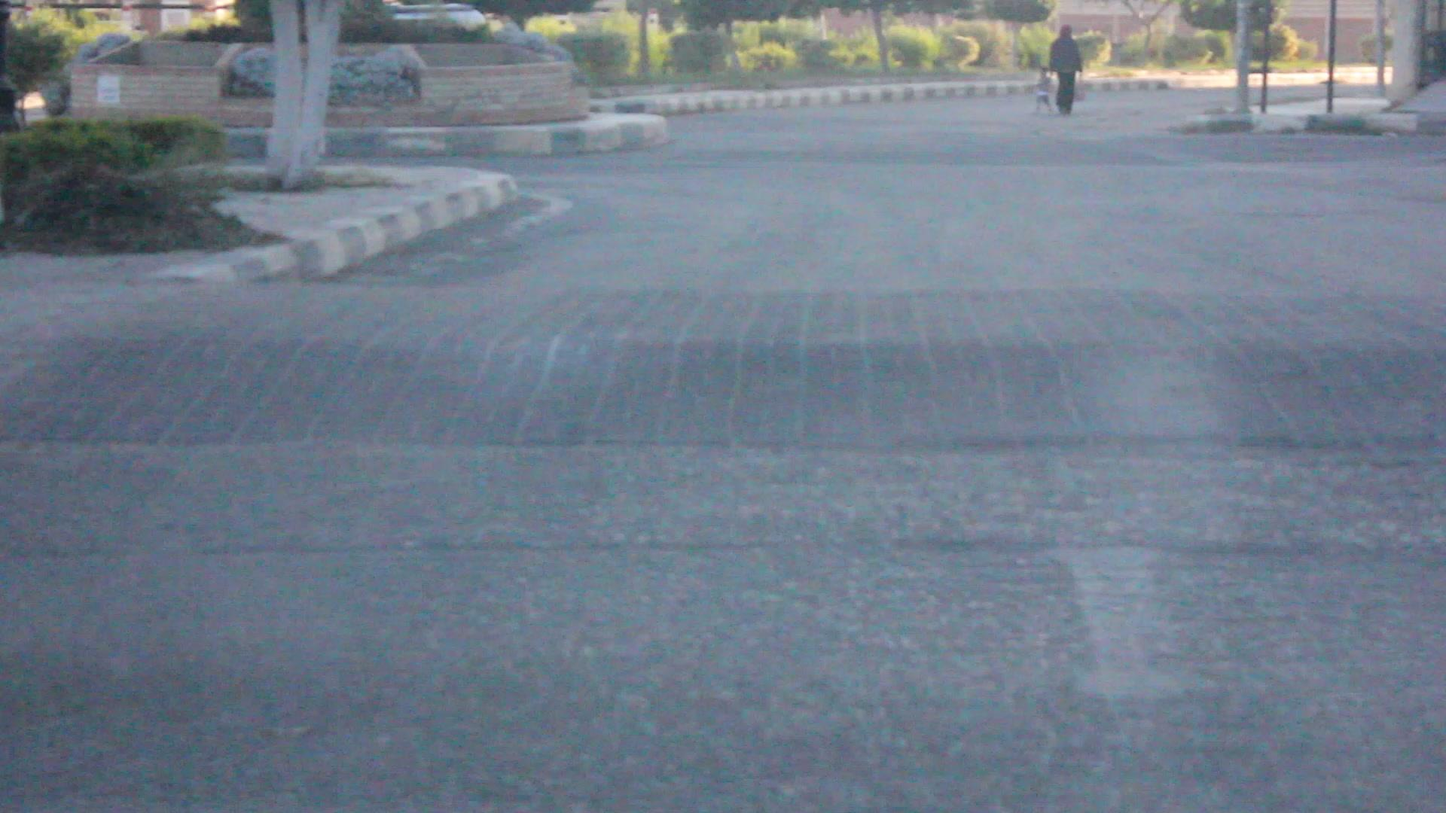Bump: (0, 278, 1445, 461)
